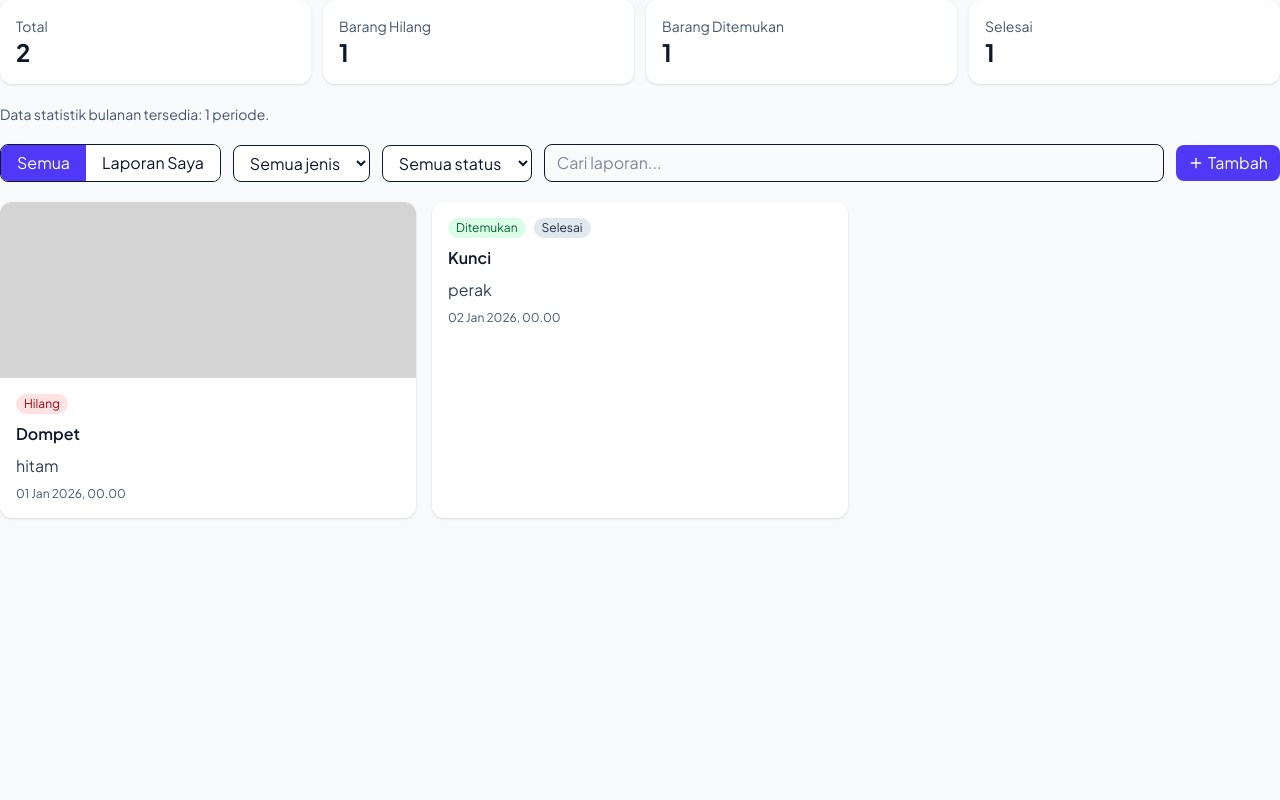
Scenario: HomePage › opens and closes the add modal
The image size is (1280, 800).
Expected: the text "Dompet" is shown, [16,423,80,444]
Click the button with aria-label "Tambah laporan" at (1228, 163), box [1176,145,1279,181]
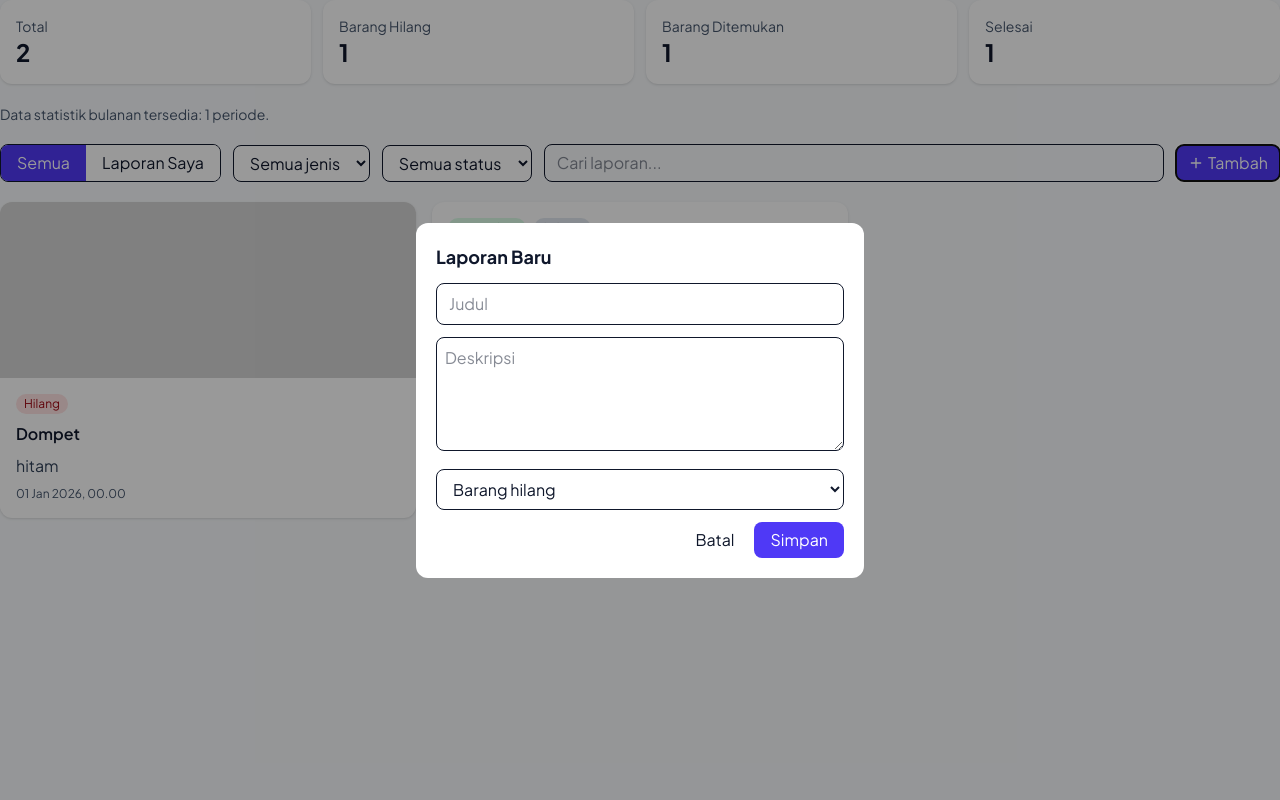
Expected: the dialog is shown, [416,222,864,578]
Click the button "Batal" at (715, 540), box [684,522,746,558]
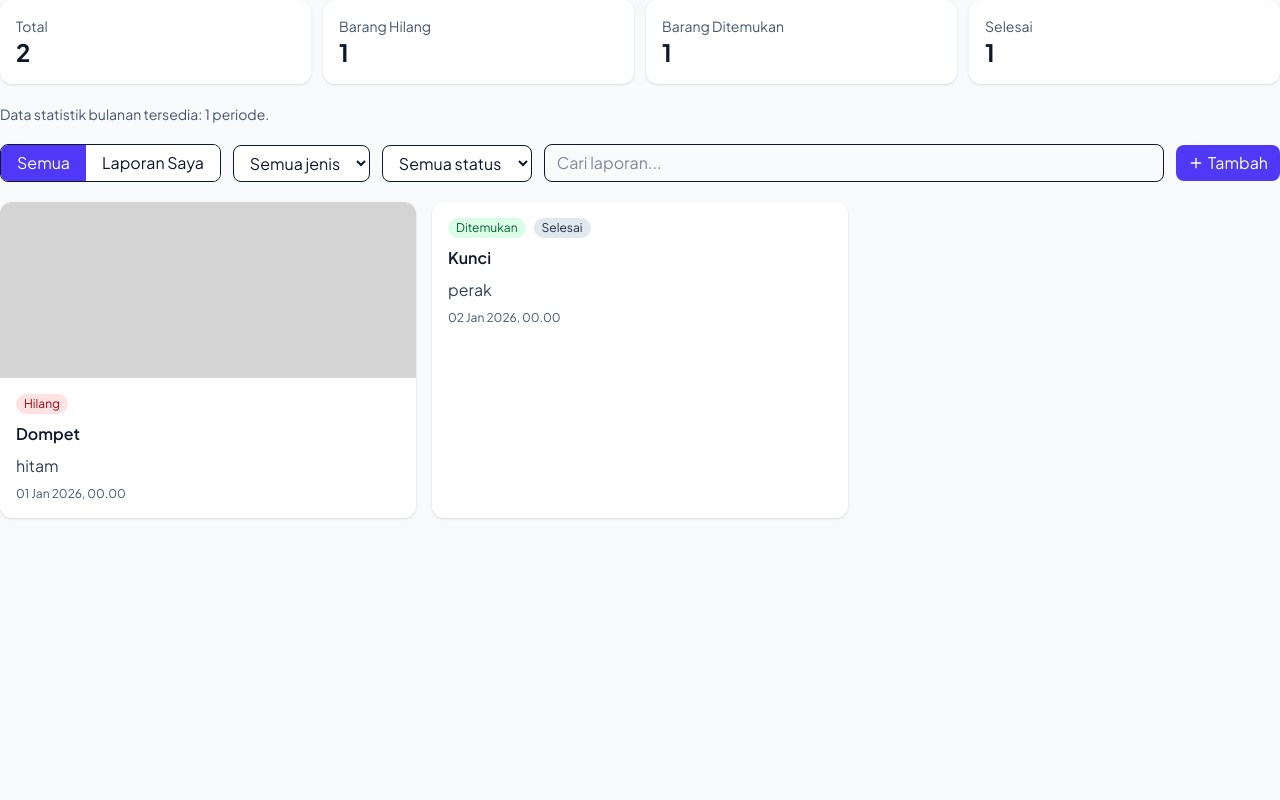
Expected: the dialog is gone
